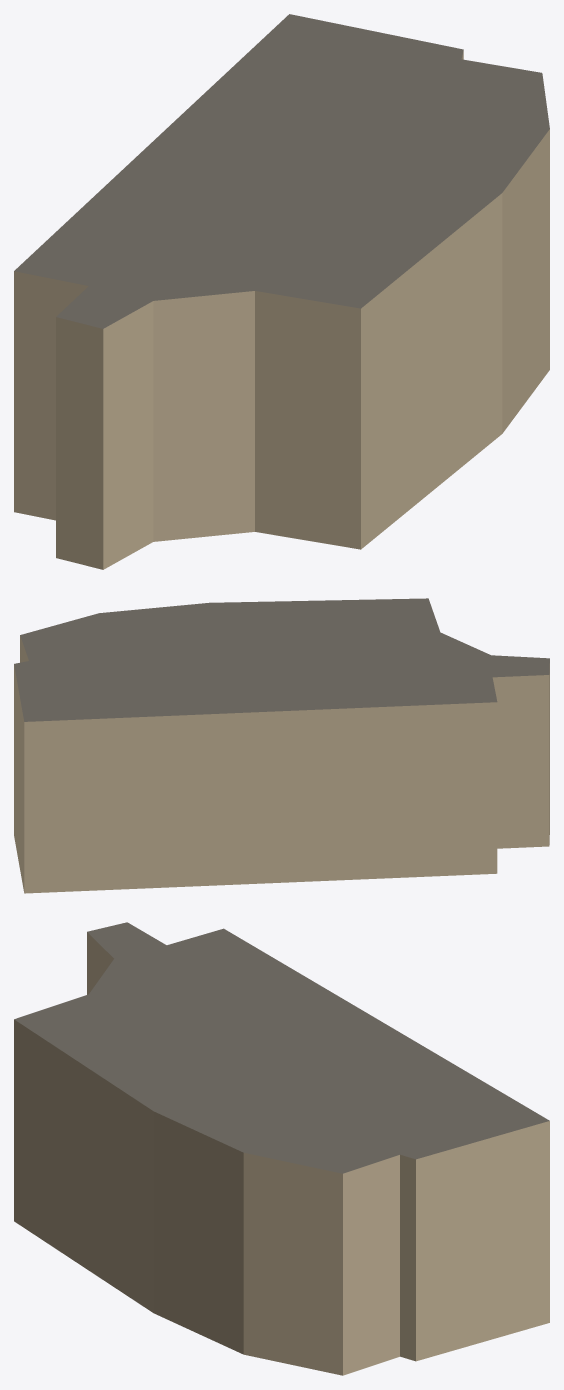
The picture shows the model from 3 angles, top to bottom: view 1: azimuth 30°, elevation 25°; view 2: azimuth 150°, elevation 25°; view 3: azimuth 270°, elevation 25°; orthographic projection. The views are drawn at different scales.
Parts seen in each view (by area): view 1: HP-w1510972564; view 2: HP-w1510972564; view 3: HP-w1510972564.
Part boxes in pixels (x1=…): HP-w1510972564: x1=14, y1=14, x2=549, y2=569; HP-w1510972564: x1=14, y1=598, x2=549, y2=893; HP-w1510972564: x1=14, y1=922, x2=549, y2=1375.
Size of the model in its own units: 44.06 by 16.5 by 39.68.
